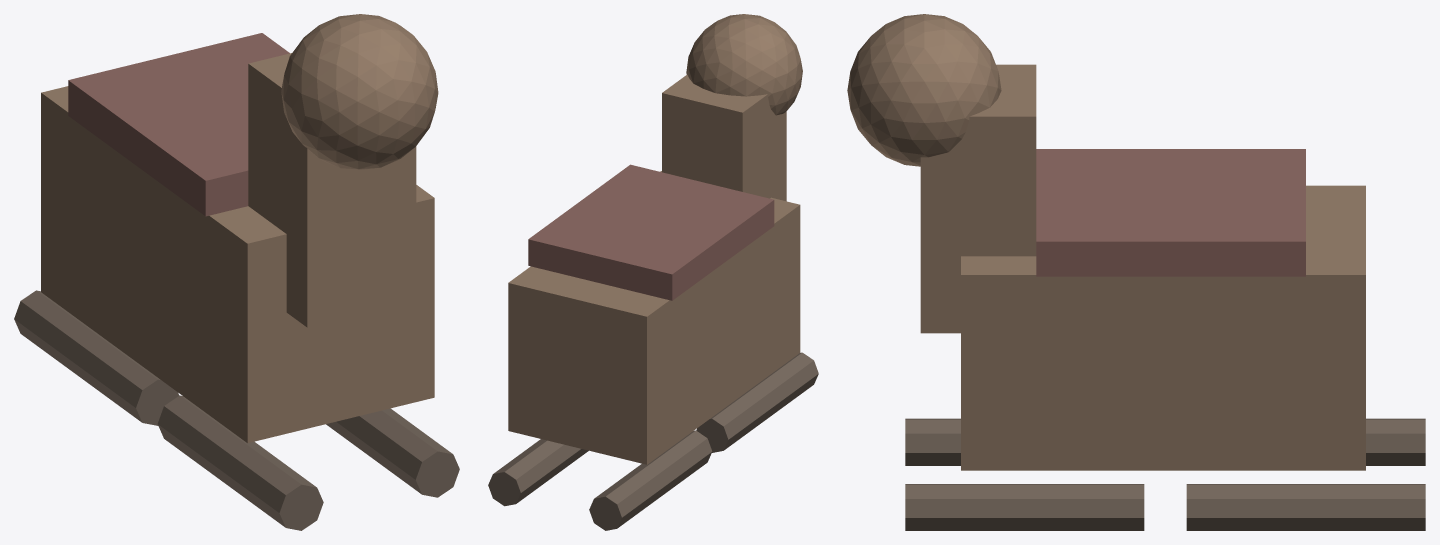
The model's file is mountain_horse.glb.
The picture shows the model from 3 angles, left to right: view 1: azimuth 30°, elevation 25°; view 2: azimuth 150°, elevation 25°; view 3: azimuth 270°, elevation 25°; orthographic projection. The views are drawn at different scales.
Visible parts, largest first — view 1: mountain_horse_00, mountain_horse_01, mountain_horse_07, mountain_horse_02, mountain_horse_04, mountain_horse_03, mountain_horse_06; view 2: mountain_horse_00, mountain_horse_07, mountain_horse_01, mountain_horse_02, mountain_horse_03, mountain_horse_04, mountain_horse_05; view 3: mountain_horse_00, mountain_horse_07, mountain_horse_01, mountain_horse_02, mountain_horse_05, mountain_horse_06, mountain_horse_03, mountain_horse_04.
Boxes of the visible parts, <box> form: mountain_horse_00: <box>41,86,434,443</box>; mountain_horse_01: <box>248,53,416,327</box>; mountain_horse_07: <box>68,33,289,216</box>; mountain_horse_02: <box>281,14,438,169</box>; mountain_horse_04: <box>157,395,323,530</box>; mountain_horse_03: <box>14,290,179,425</box>; mountain_horse_06: <box>326,408,459,497</box>; mountain_horse_00: <box>508,171,800,464</box>; mountain_horse_07: <box>528,164,774,300</box>; mountain_horse_01: <box>662,75,786,201</box>; mountain_horse_02: <box>686,14,802,115</box>; mountain_horse_03: <box>589,430,712,530</box>; mountain_horse_04: <box>696,352,818,452</box>; mountain_horse_05: <box>488,439,588,506</box>; mountain_horse_00: <box>961,185,1365,470</box>; mountain_horse_07: <box>1036,149,1305,276</box>; mountain_horse_01: <box>920,64,1036,333</box>; mountain_horse_02: <box>847,14,1001,166</box>; mountain_horse_05: <box>1186,484,1425,530</box>; mountain_horse_06: <box>905,484,1144,530</box>; mountain_horse_03: <box>1366,418,1425,465</box>; mountain_horse_04: <box>905,418,960,465</box>.
Bounding box in the file's own units: 0.57 × 1.37 × 1.5.
